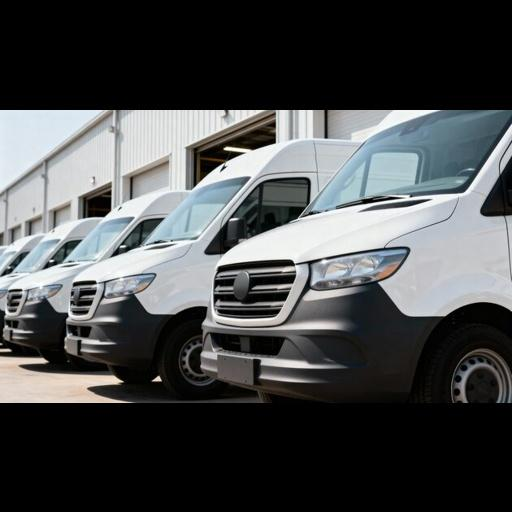van: (61, 139, 426, 394), (198, 108, 512, 402), (2, 187, 234, 365), (0, 215, 130, 342), (0, 233, 53, 285)
